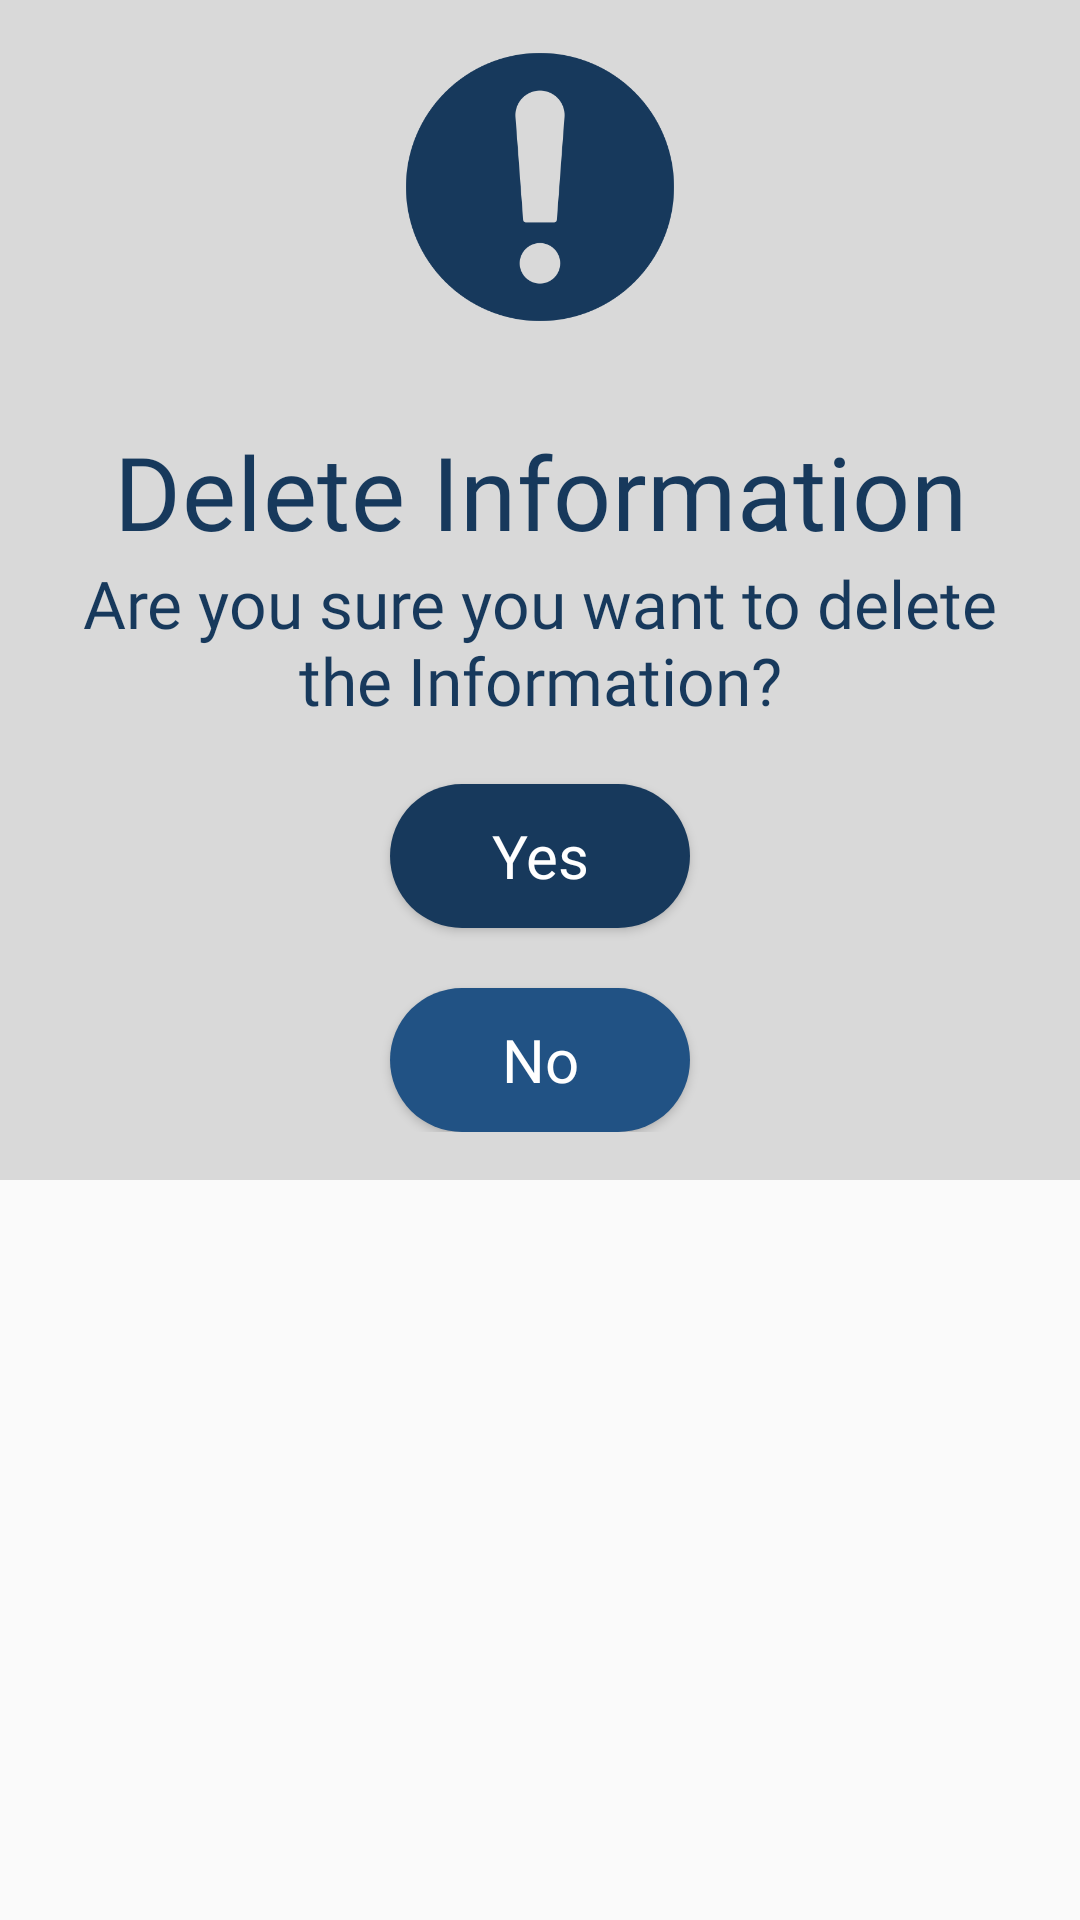

Where to tap for icons on this 1080 x 1920 app screen, as point (x, y):
warning: point (540, 187)
